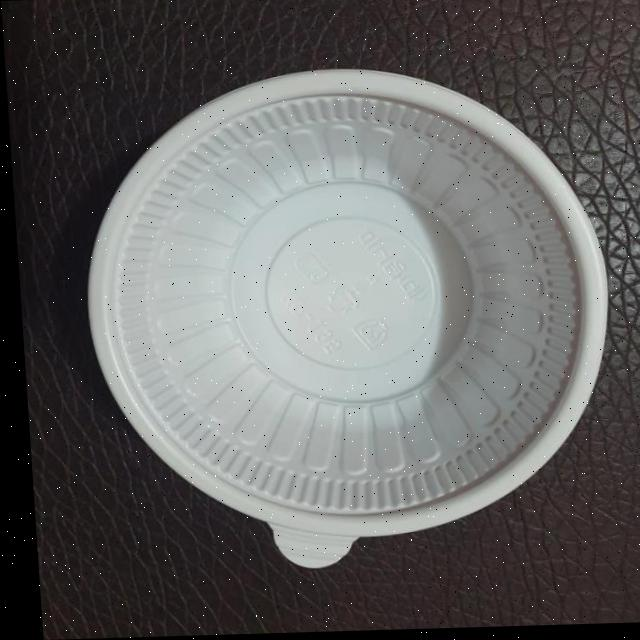disposable: (3, 44, 640, 567)
